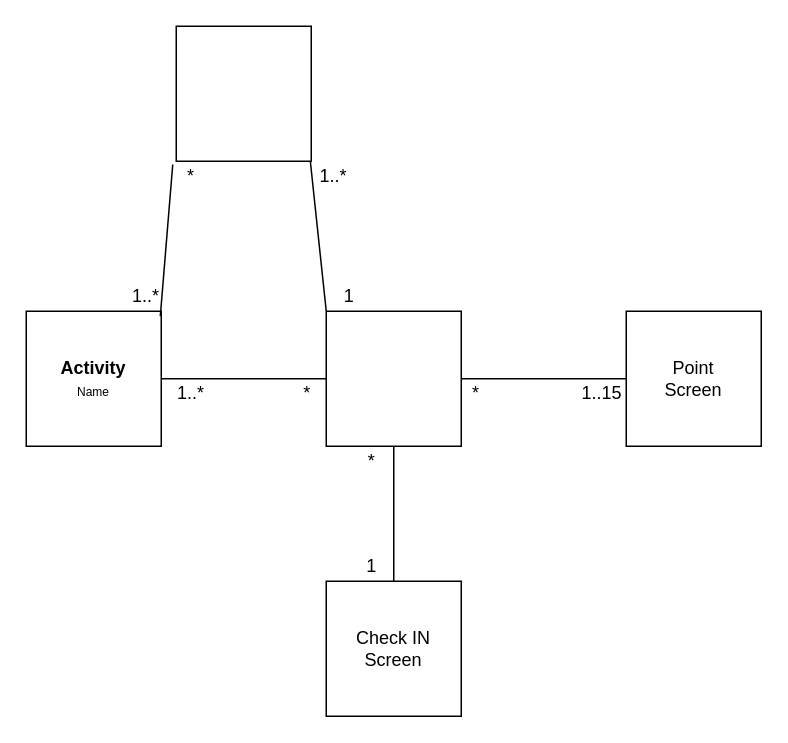
This 788x743 diagram has some shape labels left out. The shapes that lost their labels are listed below. From the top down, each one's centre as x and y in pixels, then its label:
point 243,93: Guest Name Email Points Placements
point 393,378: Booking ID, Date, Name Time of Arrival Amount of guests Contact email
